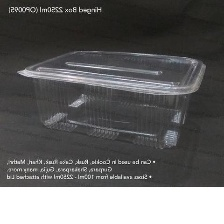plastic_box: (10, 41, 212, 154)
